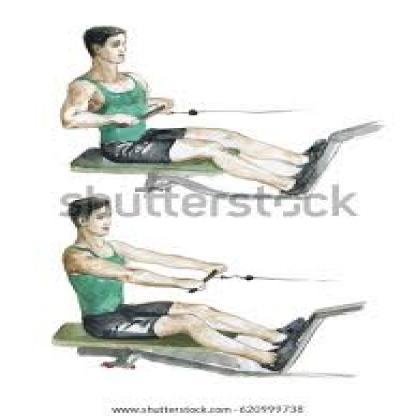Seated Cable Rows: (50, 17, 404, 212), (46, 197, 380, 383)
